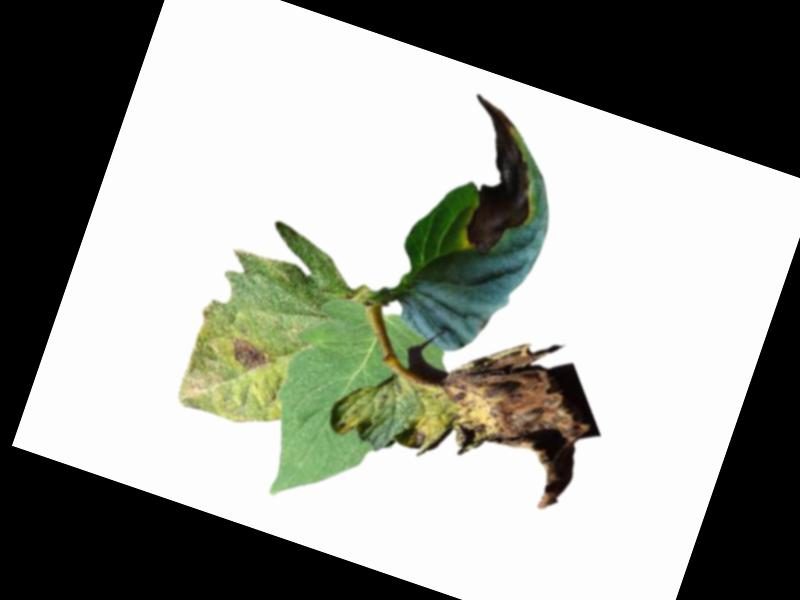Early_blight: (385, 311, 610, 518), (426, 93, 565, 268), (226, 337, 273, 374)
healthy: (249, 290, 459, 538)
